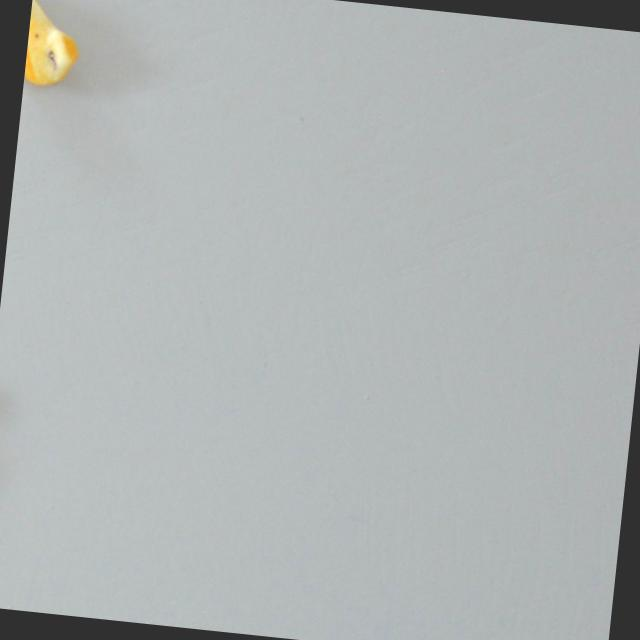dañado: (23, 0, 87, 93)
